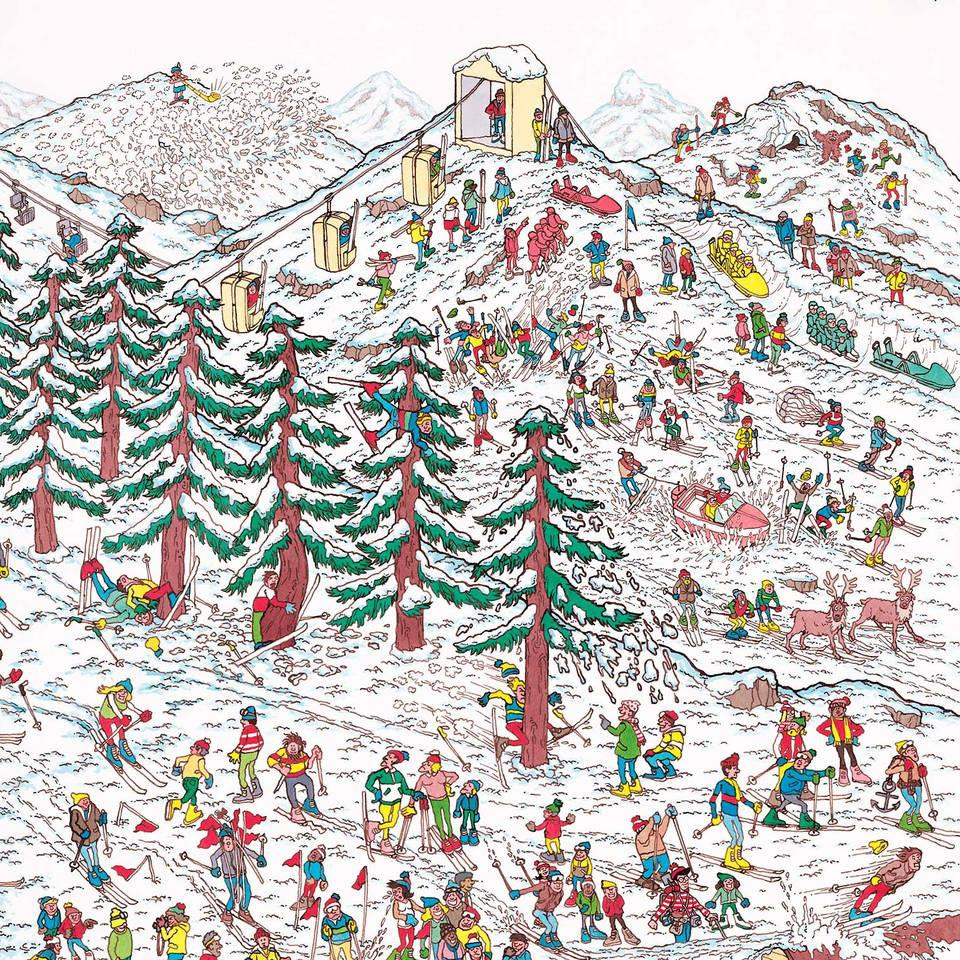waldo: (648, 863, 718, 948)
